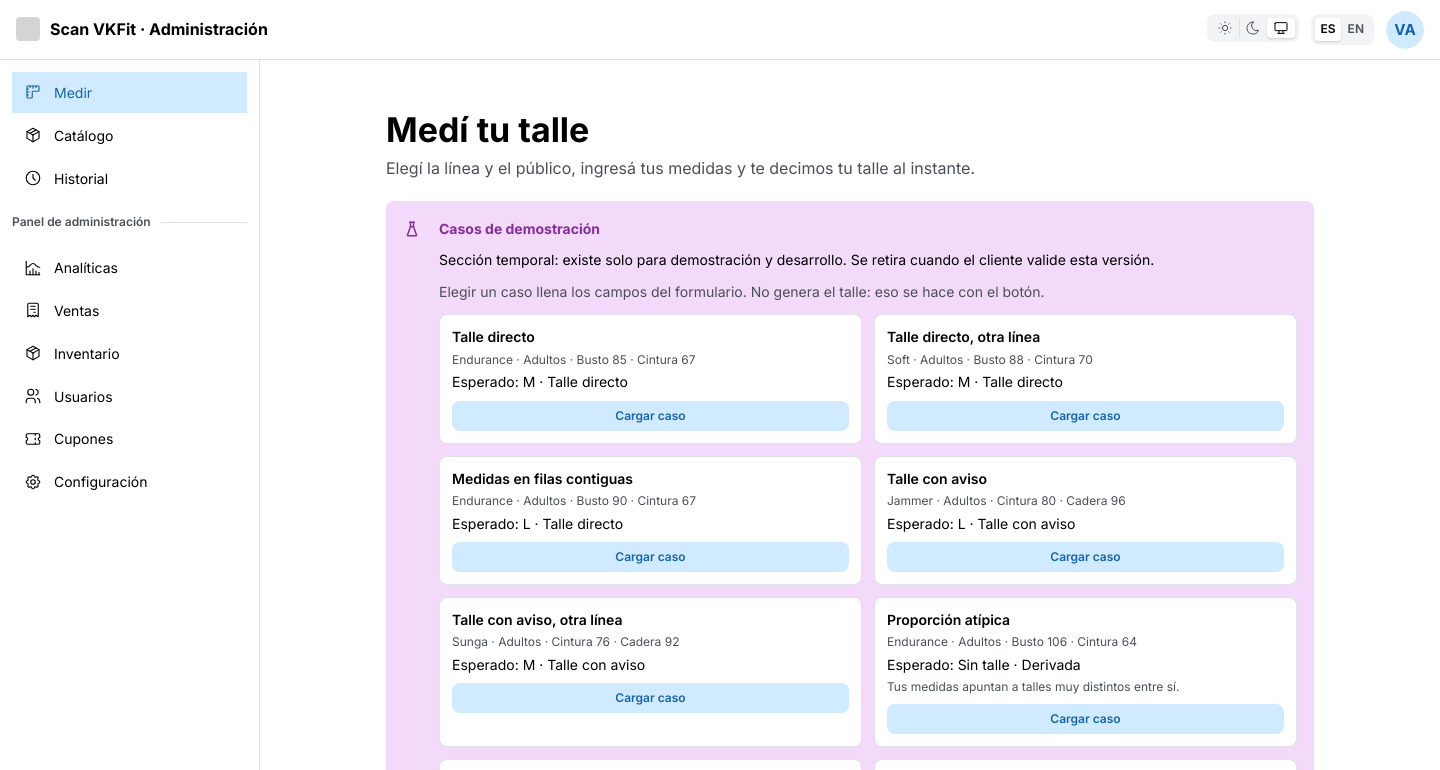
caso warningJammer contra el motor › llena el formulario con sus medidas y devuelve el talle esperado
This screenshot has width=1440, height=770.
Click the button "Cargar caso" below "L · Talle con aviso" at (1086, 557), box [887, 542, 1284, 572]
(page scrolled)
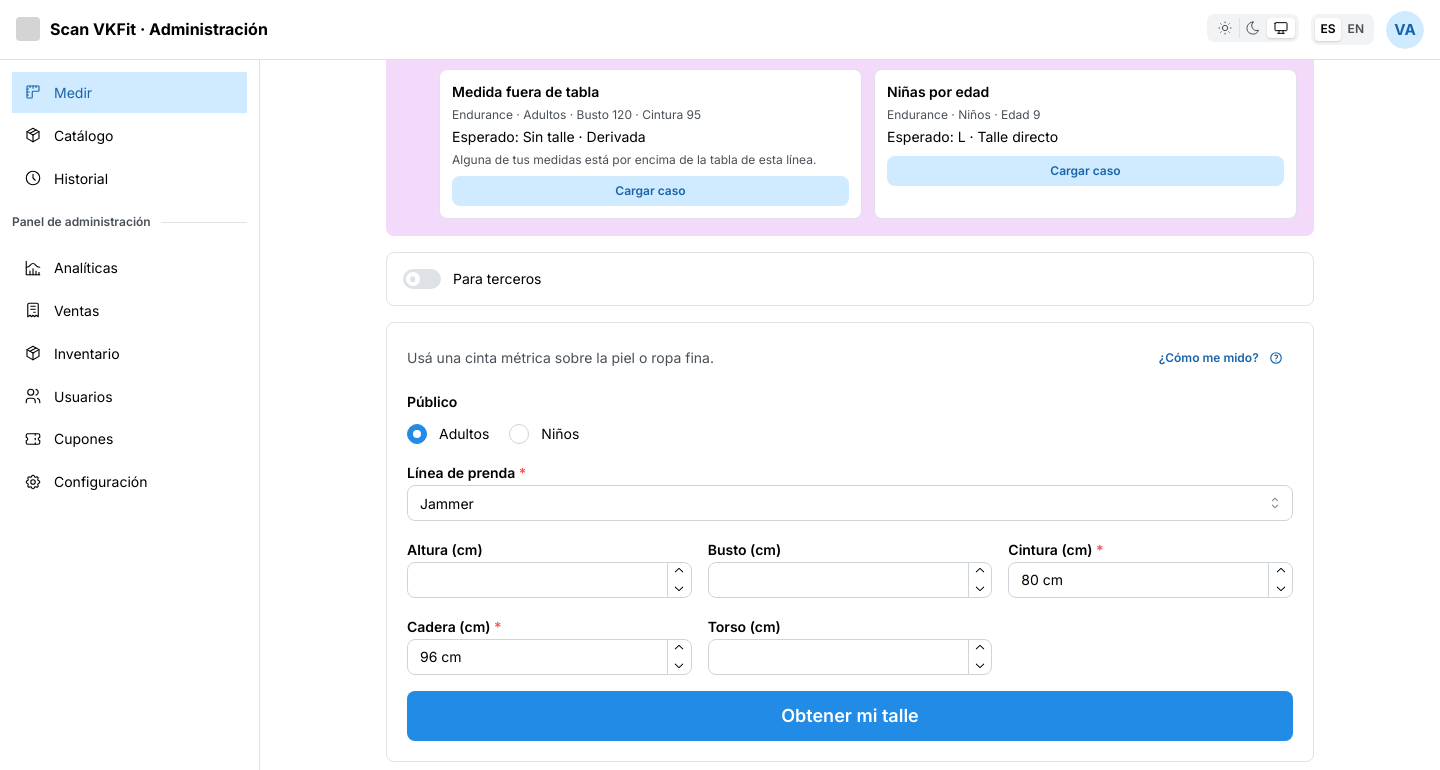
Expected: the dropdown labelled "Línea de prenda *" holds "Jammer", [407, 485, 1293, 521]
Expected: the radio button labelled "Adultos" is checked, [407, 424, 427, 444]
// Generar a mano devuelve lo que la pantalla declaró como esperado.
Click the button "Obtener mi talle" at (850, 716), box [407, 691, 1293, 741]
(page scrolled)
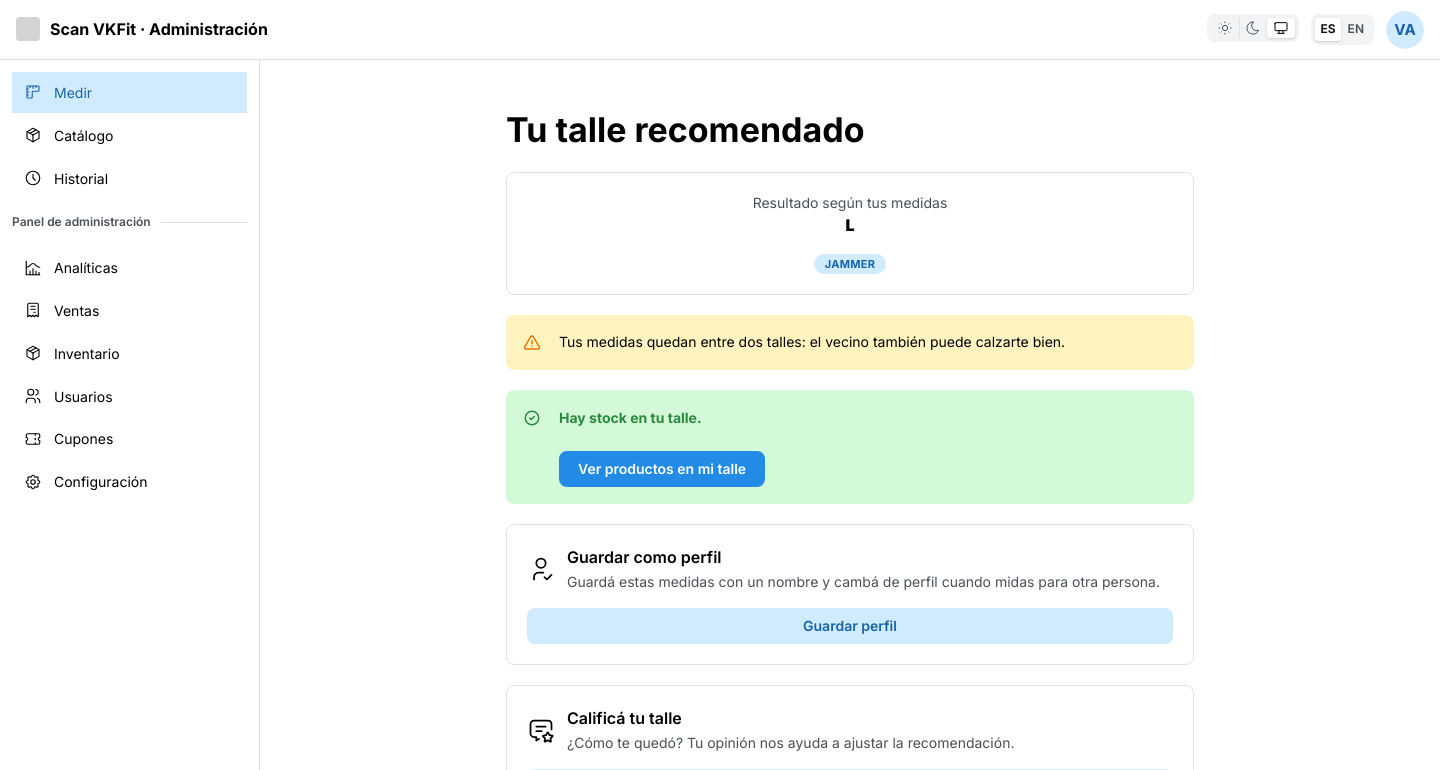
Expected: the text "L" is shown, [846, 216, 854, 236]
Expected: the heading "Tu talle recomendado" is shown, [506, 109, 864, 150]
Expected: the text "Tus medidas quedan entre dos talles: el vecino también puede calzarte bien." is shown, [559, 333, 1065, 350]
